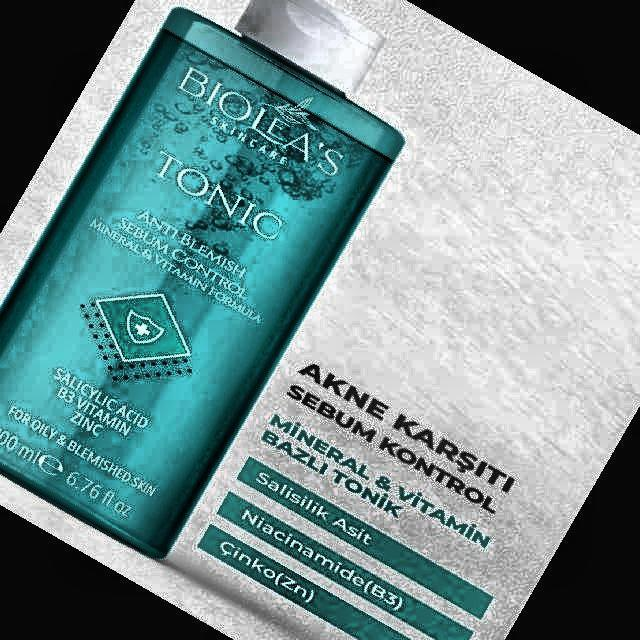plastic: (0, 0, 402, 557)
